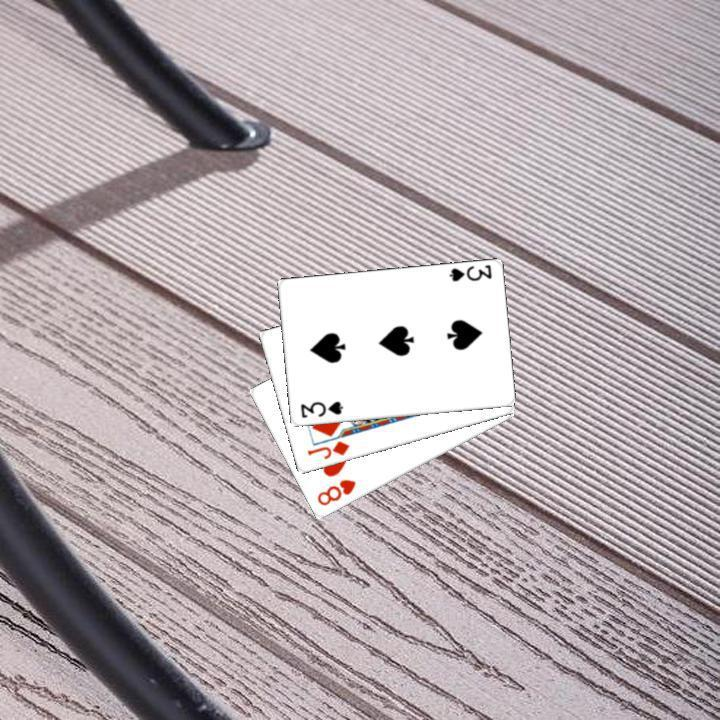3: (296, 397, 344, 420), (445, 261, 493, 284)
8: (312, 475, 358, 508)
J: (303, 437, 351, 461)
